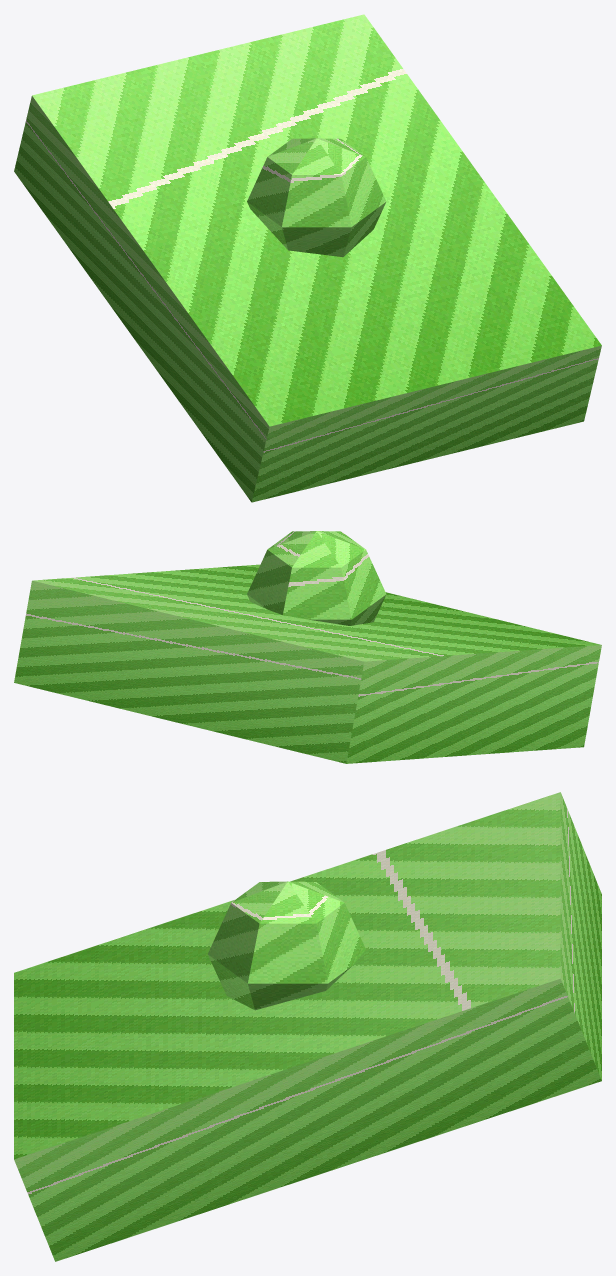
File: reliquia_sagrada_14.glb
3 views of the same model, one above another, from view 1: azimuth 30°, elevation 25°; view 2: azimuth 150°, elevation 25°; view 3: azimuth 270°, elevation 25° (orthographic). The views are drawn at different scales.
Parts seen in each view (by area): view 1: reliquia_sagrada_14; view 2: reliquia_sagrada_14; view 3: reliquia_sagrada_14.
Boxes of the visible parts, bbox=[...] form: reliquia_sagrada_14: bbox=[14, 14, 601, 502]; reliquia_sagrada_14: bbox=[14, 531, 601, 763]; reliquia_sagrada_14: bbox=[14, 792, 601, 1261].
Size of the model in its own units: 0.44 by 0.3158 by 0.586.
Materials: 1 (1 with a texture image).
